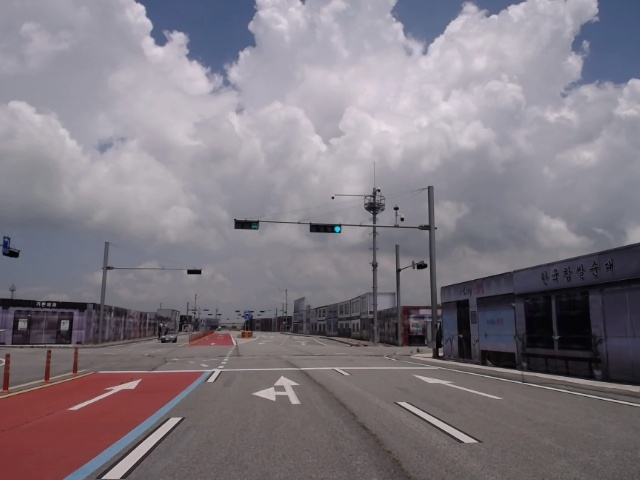straight_green_4: (311, 224, 341, 234)
